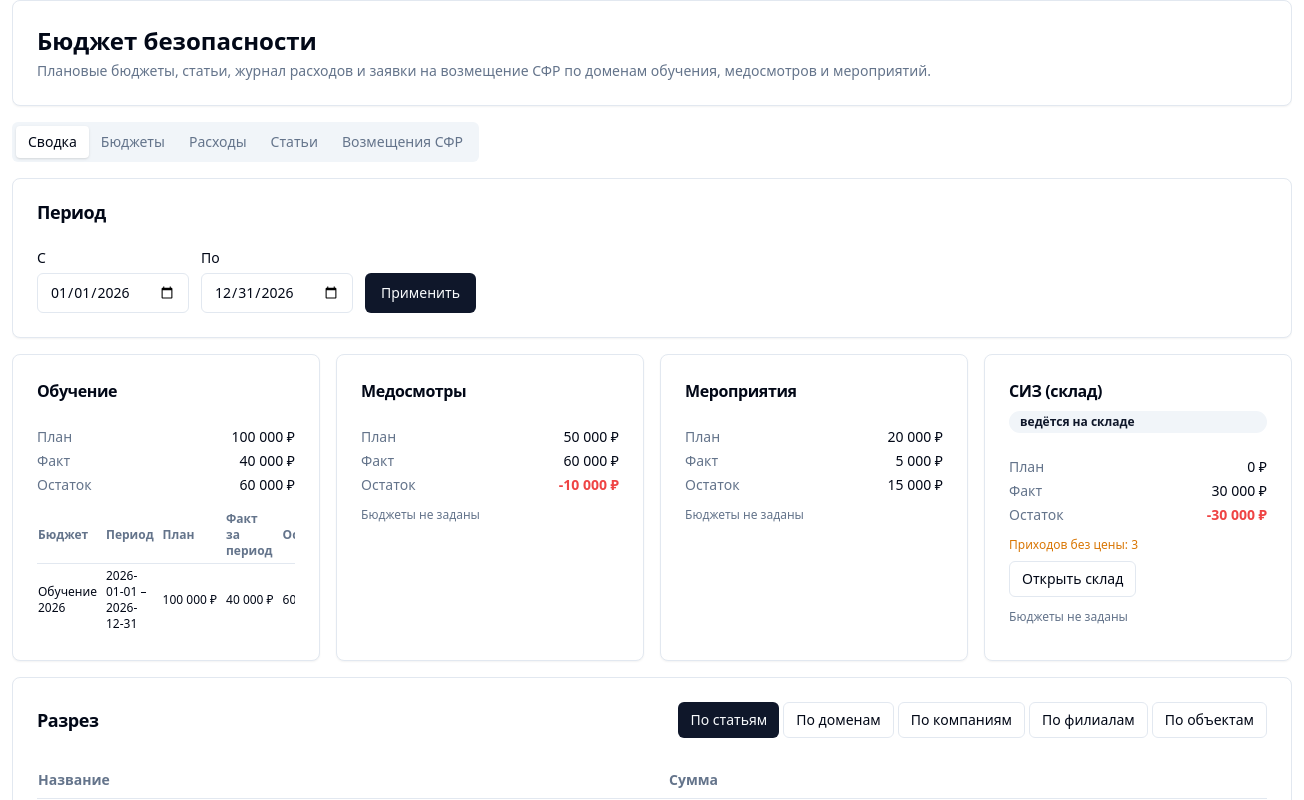
Test: BudgetPage › renders the budgets list and opens a budget detail panel
Click the tab "Бюджеты": [133, 142] box x1=89 y1=126 x2=177 y2=158
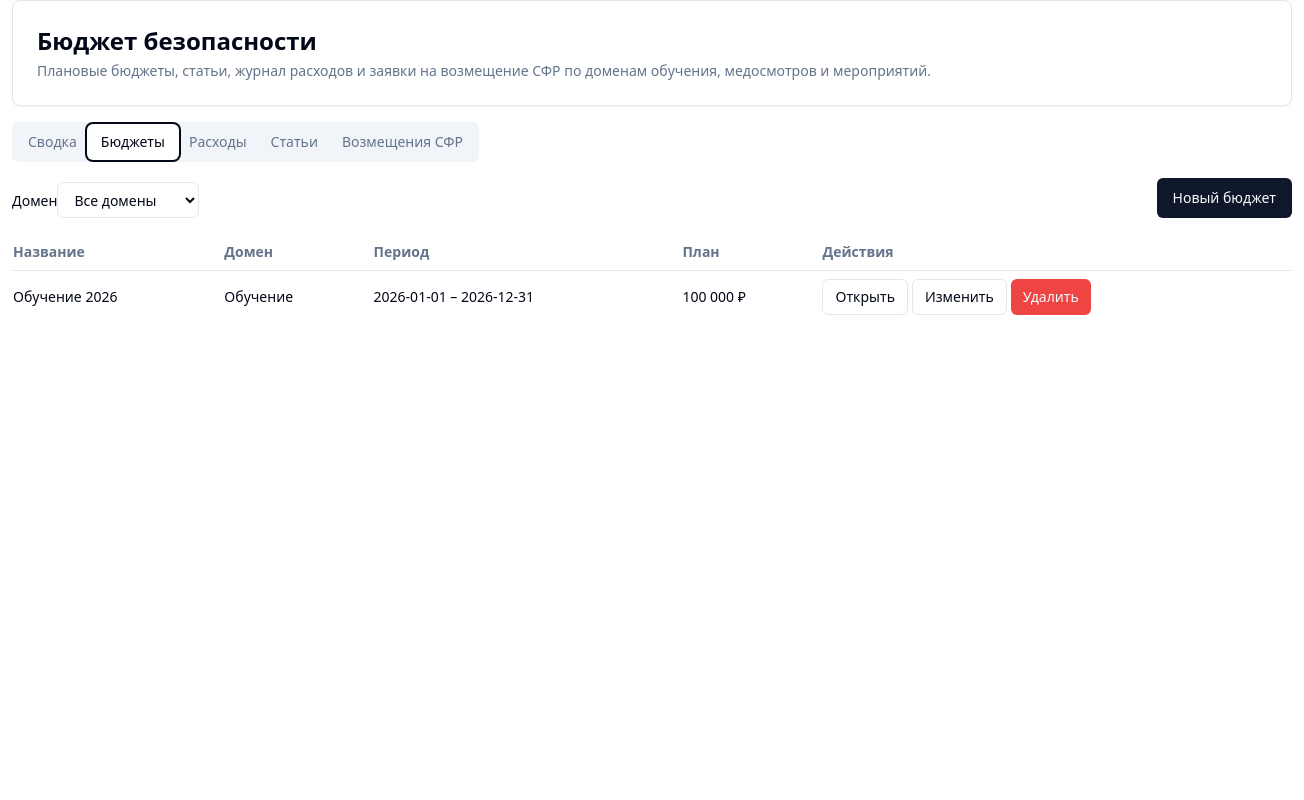
Result: the text "Обучение 2026" is shown at x1=12 y1=270 x2=223 y2=323
Click the button "Открыть": [865, 297] box x1=822 y1=279 x2=908 y2=315
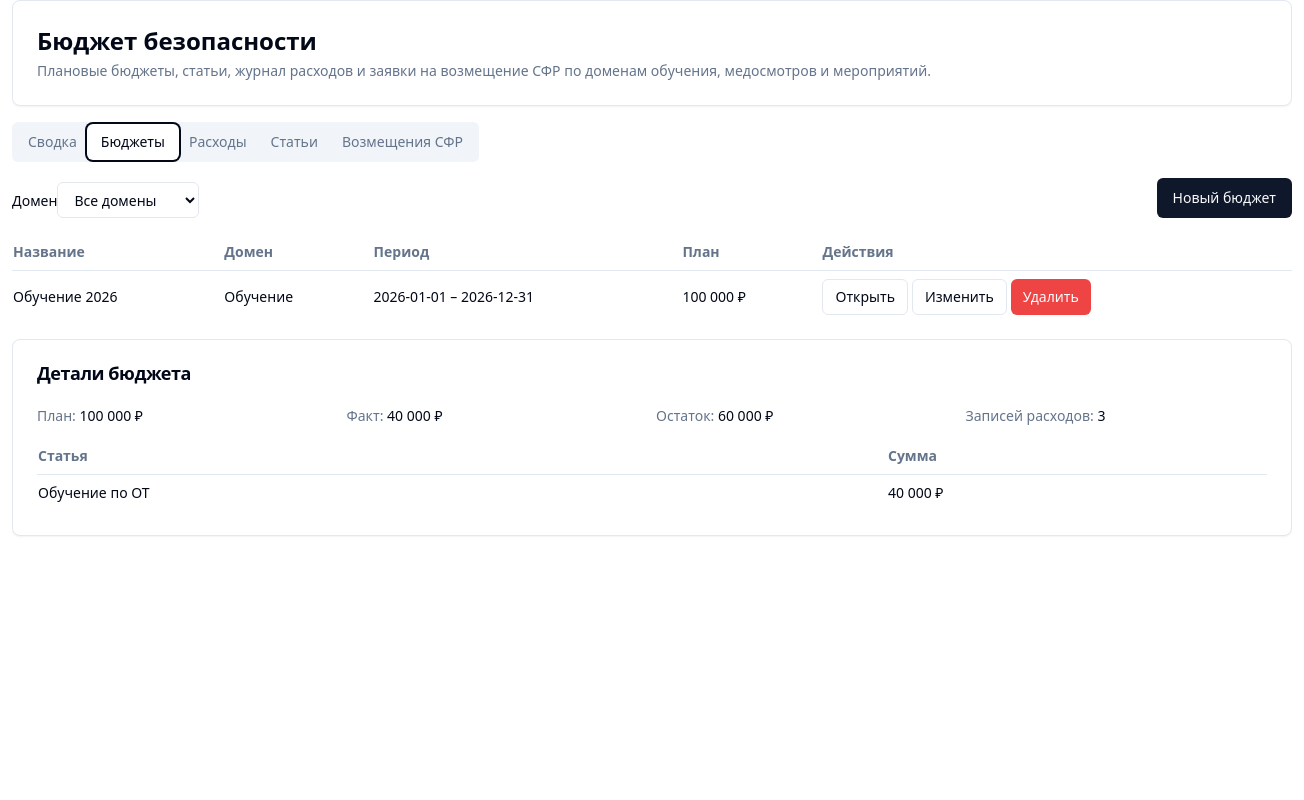
Result: the element with test id "budget-detail-expense-count" reads "Записей расходов: 3" at x1=966 y1=406 x2=1106 y2=425
Result: the heading "Детали бюджета" is shown at x1=37 y1=361 x2=191 y2=385
Result: the text "Обучение по ОТ" is shown at x1=38 y1=483 x2=150 y2=502
